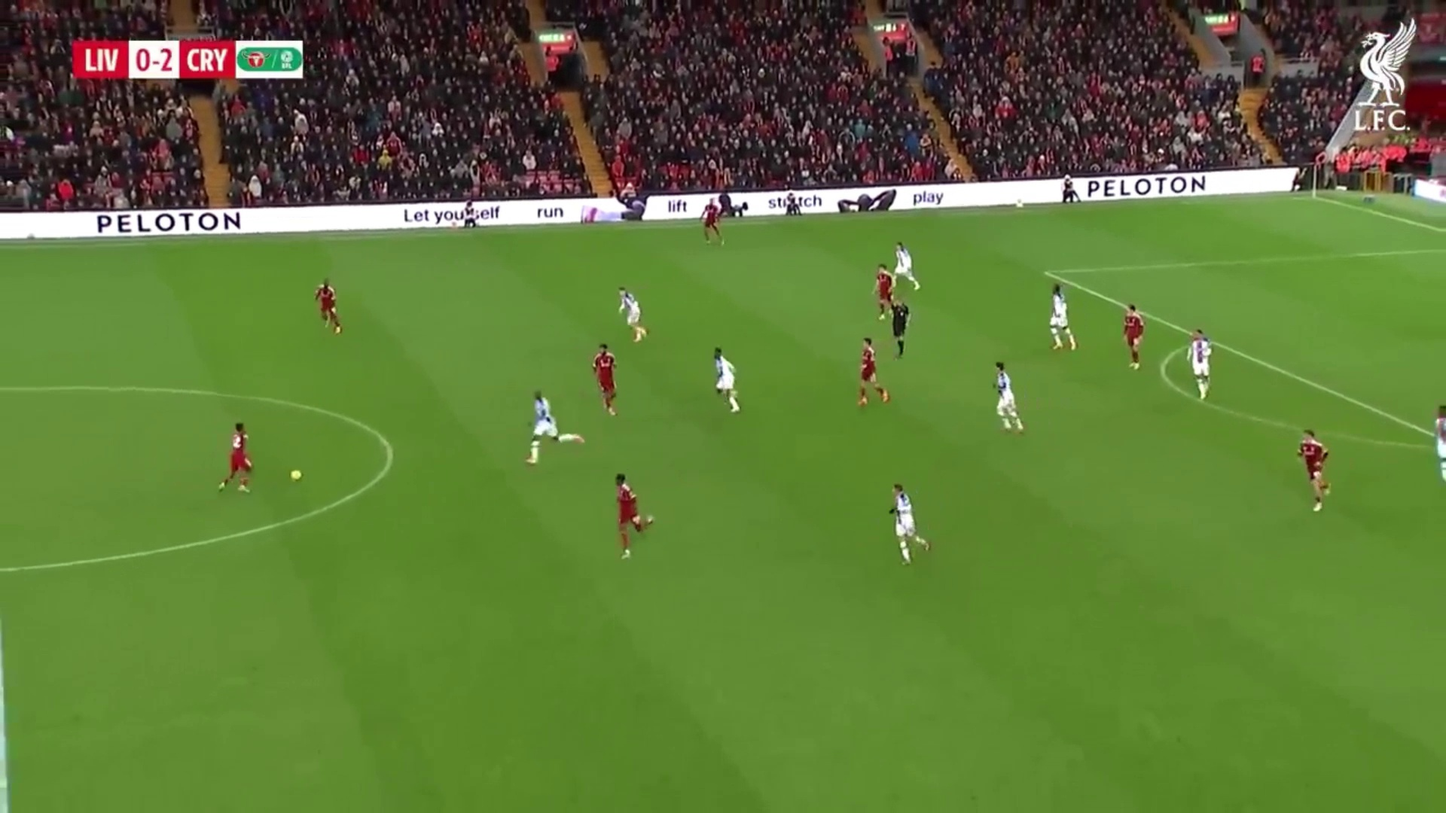player: (882, 245, 916, 353), (1294, 426, 1332, 513), (889, 243, 919, 348), (891, 481, 928, 566), (615, 475, 651, 560), (874, 268, 909, 350), (862, 337, 896, 410), (855, 339, 890, 408), (528, 392, 562, 463), (994, 359, 1025, 433), (222, 422, 253, 494), (1049, 281, 1077, 353), (591, 345, 618, 419), (712, 344, 740, 413), (873, 267, 901, 332), (619, 285, 648, 346), (1189, 327, 1212, 402), (316, 281, 343, 335), (1123, 303, 1144, 370), (886, 301, 909, 358), (702, 197, 725, 247), (1433, 405, 1445, 492)
